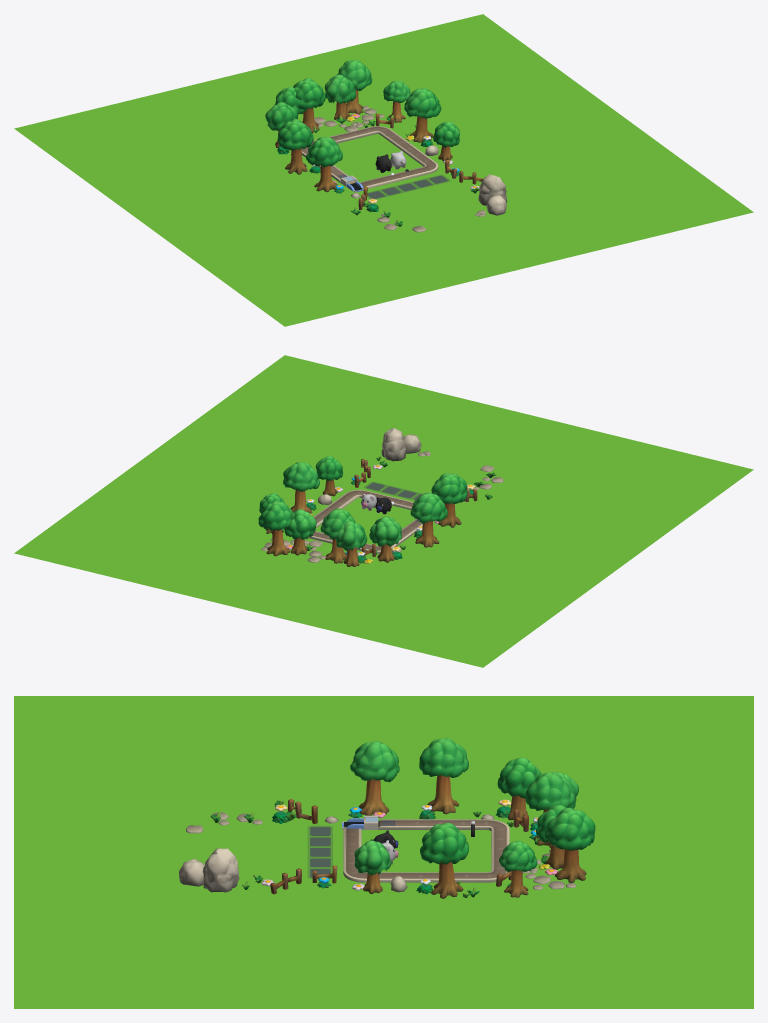
3 views of the same model, one above another, from view 1: azimuth 30°, elevation 25°; view 2: azimuth 150°, elevation 25°; view 3: azimuth 270°, elevation 25° (orthographic). The views are drawn at different scales.
Visible parts, largest first — view 1: Ground_Plane, Rail_Main, Tree_01.004, Tree_01.001, Tree_01.005, Tree_01.002, Tree_00.002, Tree_01, Slot_Unnamed, Tree_00, Tree_01.003, Tree_00.001 (+1 smaller); view 2: Ground_Plane, Rail_Main, Tree_01.004, Tree_01.005, Tree_01, Tree_01.001, Tree_00.001, Tree_00.003, Tree_00.002, Tree_01.002, Tree_00, Rock_02; view 3: Ground_Plane, Rail_Main, Tree_01, Tree_01.004, Tree_01.001, Tree_01.005, Tree_01.002, Tree_00.001, Rock_02, Tree_01.003, Slot_Unnamed, Tree_00 (+2 smaller).
Part boxes in pixels (x1,y1,x2,y2): Ground_Plane: (14, 14, 753, 326); Rail_Main: (301, 126, 438, 192); Tree_01.004: (277, 119, 313, 174); Tree_01.001: (404, 88, 441, 142); Tree_01.005: (306, 137, 342, 192); Tree_01.002: (293, 78, 325, 133); Tree_00.002: (324, 74, 356, 119); Tree_01: (337, 60, 372, 114); Slot_Unnamed: (367, 174, 450, 199); Tree_00: (433, 121, 459, 161); Tree_01.003: (383, 81, 411, 122); Tree_00.001: (265, 102, 297, 147); Ground_Plane: (14, 355, 753, 667); Rail_Main: (308, 490, 422, 553); Tree_01.004: (410, 492, 447, 547); Tree_01.005: (431, 473, 467, 527); Tree_01: (258, 500, 292, 556); Tree_01.001: (283, 462, 319, 513); Tree_00.001: (369, 516, 401, 562); Tree_00.003: (336, 521, 367, 566); Tree_00.002: (284, 509, 316, 555); Tree_01.002: (320, 508, 355, 563); Tree_00: (315, 456, 343, 496); Rock_02: (381, 428, 405, 461); Ground_Plane: (14, 696, 753, 1008); Rail_Main: (341, 815, 509, 882); Tree_01: (544, 807, 595, 882); Tree_01.004: (419, 738, 468, 814); Tree_01.001: (420, 822, 468, 898); Tree_01.005: (350, 741, 399, 815); Tree_01.002: (525, 772, 575, 847); Tree_00.001: (497, 757, 541, 820); Rock_02: (202, 848, 239, 892); Tree_01.003: (499, 840, 537, 897); Slot_Unnamed: (307, 825, 332, 878); Tree_00: (354, 840, 391, 893).
Size of the model in its own units: 64 by 6.99 by 64.
Materials: 9 (6 with a texture image).
